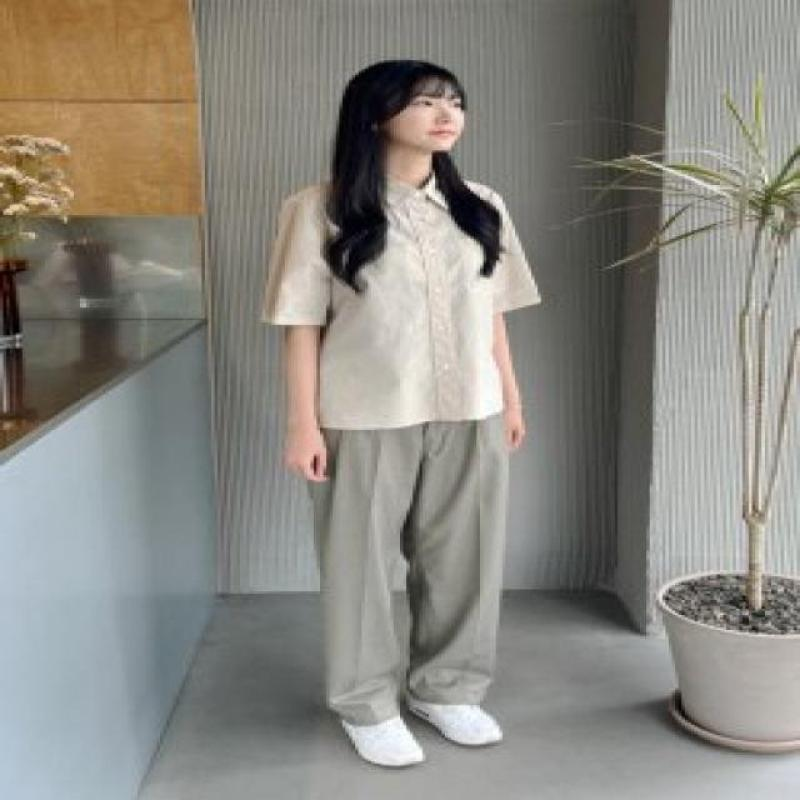short sleeve shirt: (257, 170, 545, 433)
trousers: (309, 412, 517, 724)
